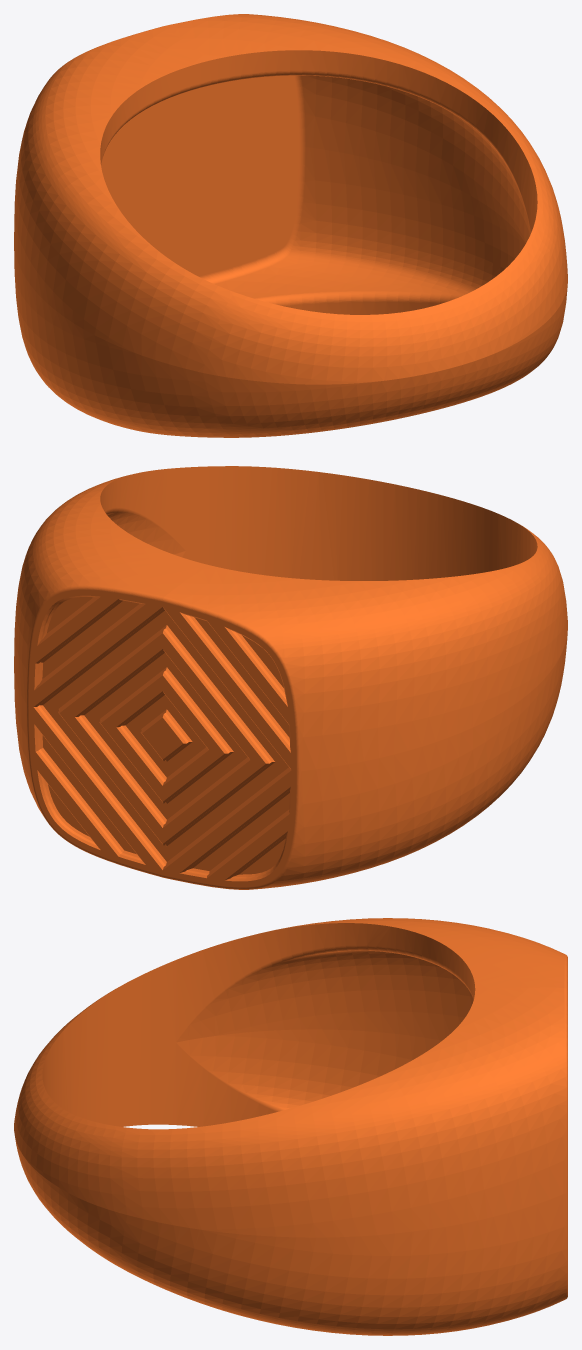
File: Ring2.obj
The picture shows the model from 3 angles, top to bottom: view 1: azimuth 30°, elevation 25°; view 2: azimuth 150°, elevation 25°; view 3: azimuth 270°, elevation 25°; orthographic projection.
Visible parts, largest first — view 1: Ring2_ring2_3 polySurface2 polySurface1; view 2: Ring2_ring2_3 polySurface2 polySurface1; view 3: Ring2_ring2_3 polySurface2 polySurface1.
Boxes of the visible parts, left/top/right/bottom form: Ring2_ring2_3 polySurface2 polySurface1: left=14, top=14, right=567, bottom=437; Ring2_ring2_3 polySurface2 polySurface1: left=14, top=466, right=567, bottom=889; Ring2_ring2_3 polySurface2 polySurface1: left=14, top=918, right=567, bottom=1335.
Bounding box in the file's own units: 2.06 × 1.21 × 2.18.
